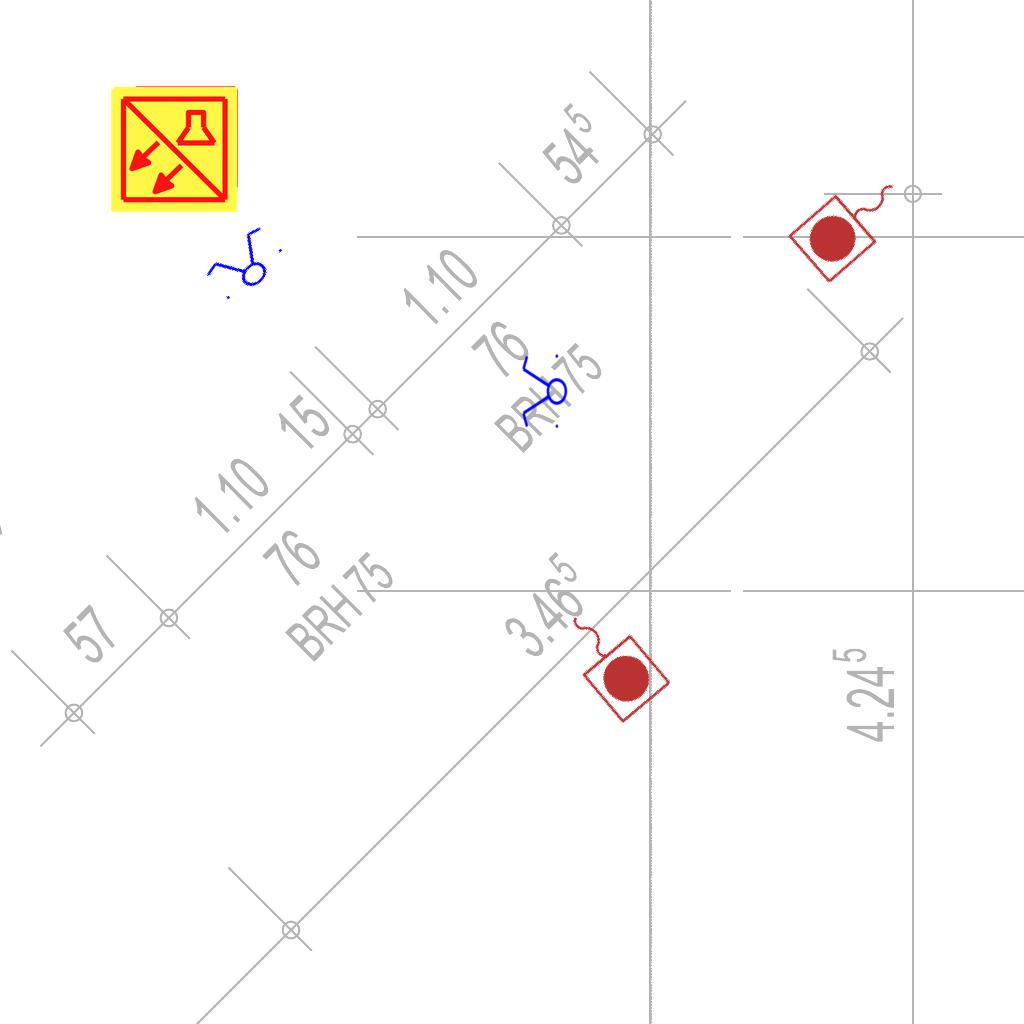OKW_Multisensormelder_(Kombination_optischer_Rauch-Kahlenmonoxid_Waerme-Melder): (108, 83, 240, 215)
Serienschalter: (197, 219, 293, 311), (520, 350, 568, 434)
Zugtaster: (782, 155, 922, 291), (544, 589, 678, 729)
